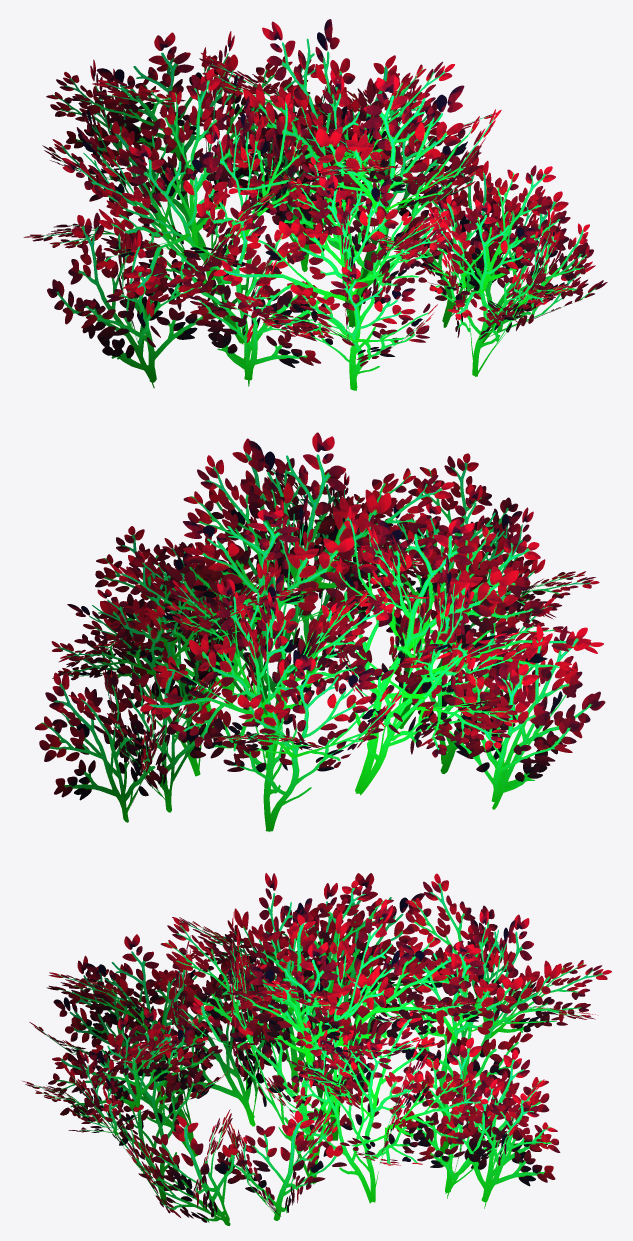
Rendered from SM_Bush_B_01.fbx.
3 views of the same model, one above another, from view 1: azimuth 30°, elevation 25°; view 2: azimuth 150°, elevation 25°; view 3: azimuth 270°, elevation 25° (orthographic). The views are drawn at different scales.
Visible parts, largest first — view 1: SM_Bush_B_01_LOD0; view 2: SM_Bush_B_01_LOD0; view 3: SM_Bush_B_01_LOD0.
Part boxes in pixels (bbox=[...]): SM_Bush_B_01_LOD0: bbox=[23, 19, 607, 390]; SM_Bush_B_01_LOD0: bbox=[35, 432, 605, 831]; SM_Bush_B_01_LOD0: bbox=[22, 873, 611, 1225].
Bounding box in the file's own units: 259 × 144 × 284.
